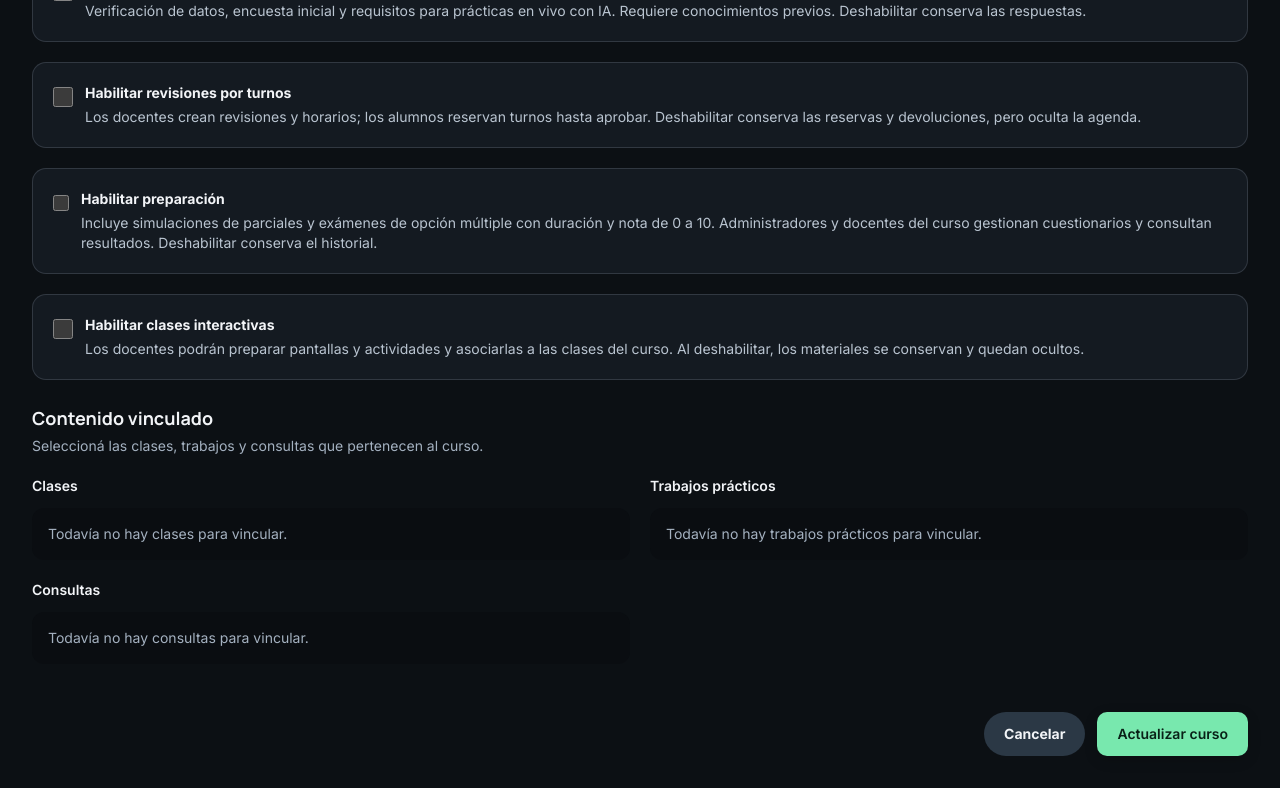
it: CourseForm › muestra el error junto al botón cuando la actualización falla
(page scrolled)
Click the button "Actualizar curso".
click(1173, 734)  # box [1097,712,1248,756]
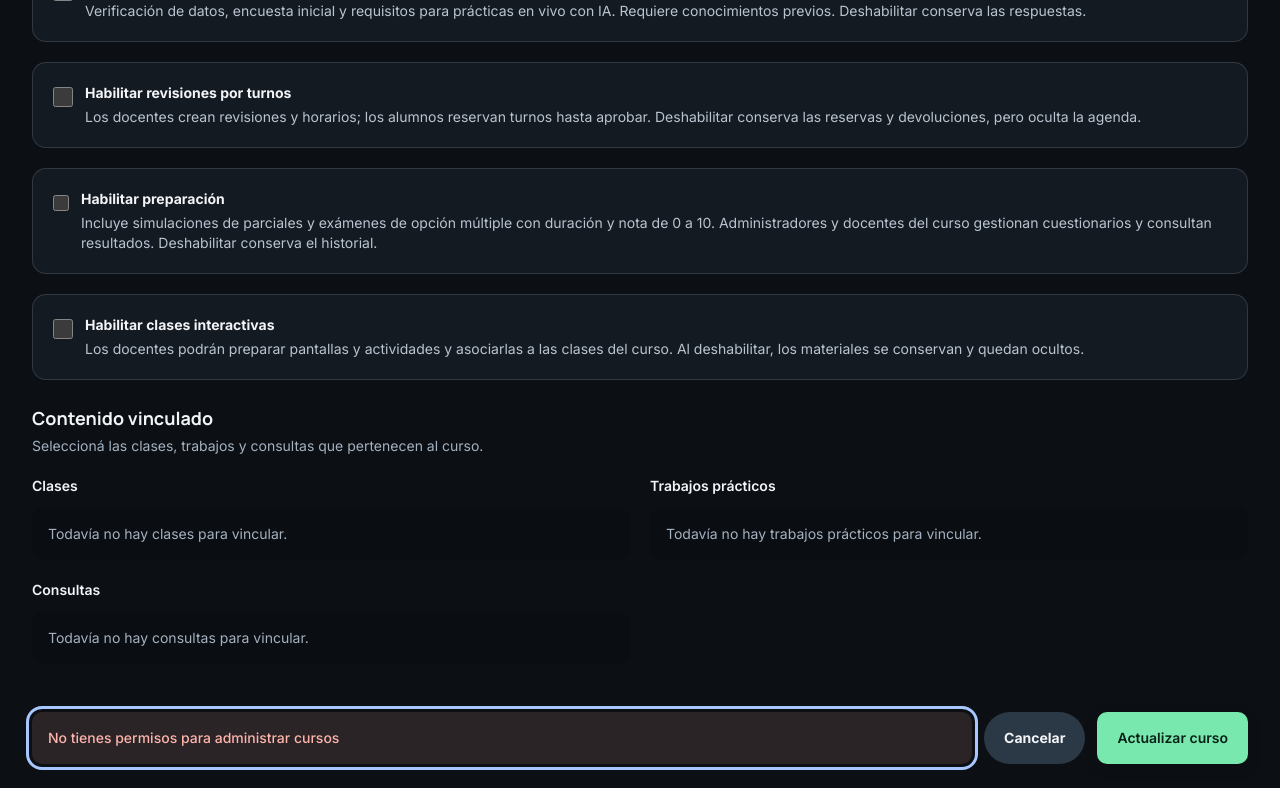
Expected: the message reads "No tienes permisos para administrar cursos", [48,729,339,746]
